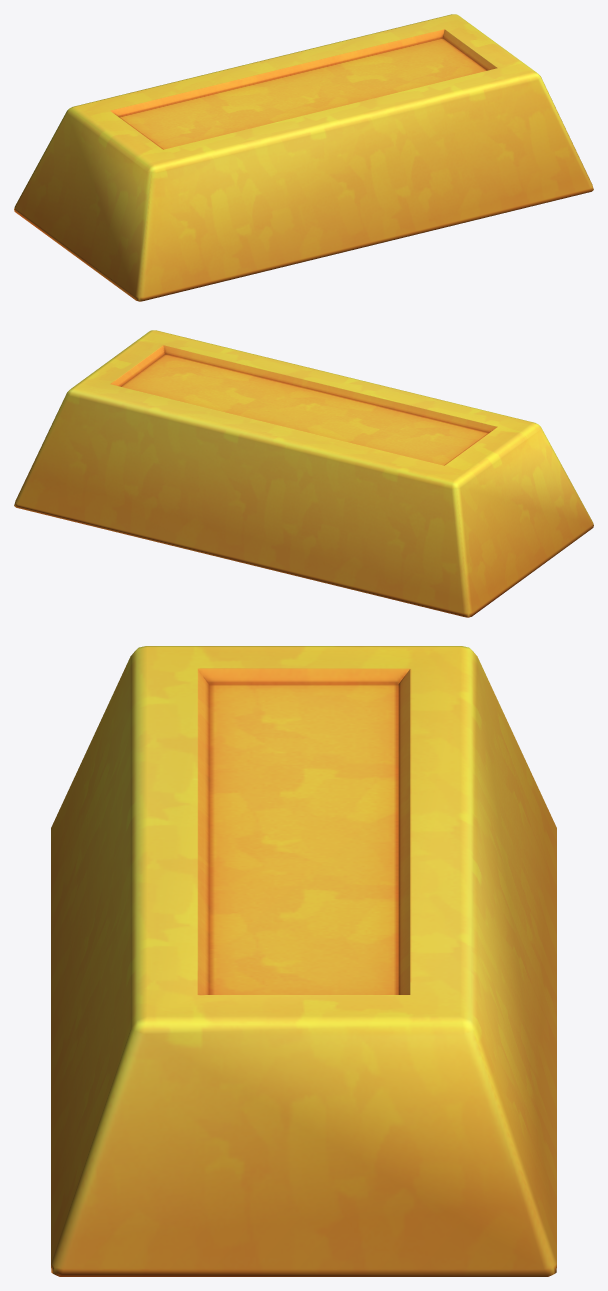
The model's file is SM_Gold_Bar.fbx.
The picture shows the model from 3 angles, top to bottom: view 1: azimuth 30°, elevation 25°; view 2: azimuth 150°, elevation 25°; view 3: azimuth 270°, elevation 25°; orthographic projection. The views are drawn at different scales.
Visible parts, largest first — view 1: SM_Gold_Bar_LOD0; view 2: SM_Gold_Bar_LOD0; view 3: SM_Gold_Bar_LOD0.
Boxes of the visible parts, box(x1,y1,x2,y2) form: SM_Gold_Bar_LOD0: box(14, 14, 593, 301); SM_Gold_Bar_LOD0: box(14, 330, 593, 617); SM_Gold_Bar_LOD0: box(51, 646, 556, 1276).
Size of the model in its own units: 36.23 by 17.37 by 8.52.
1 material, 1 textured.
